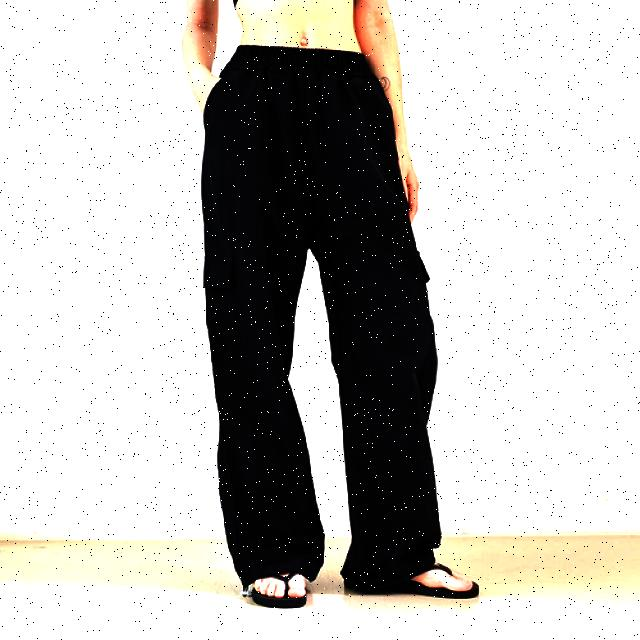Blouse_deep: (215, 54, 446, 586)
